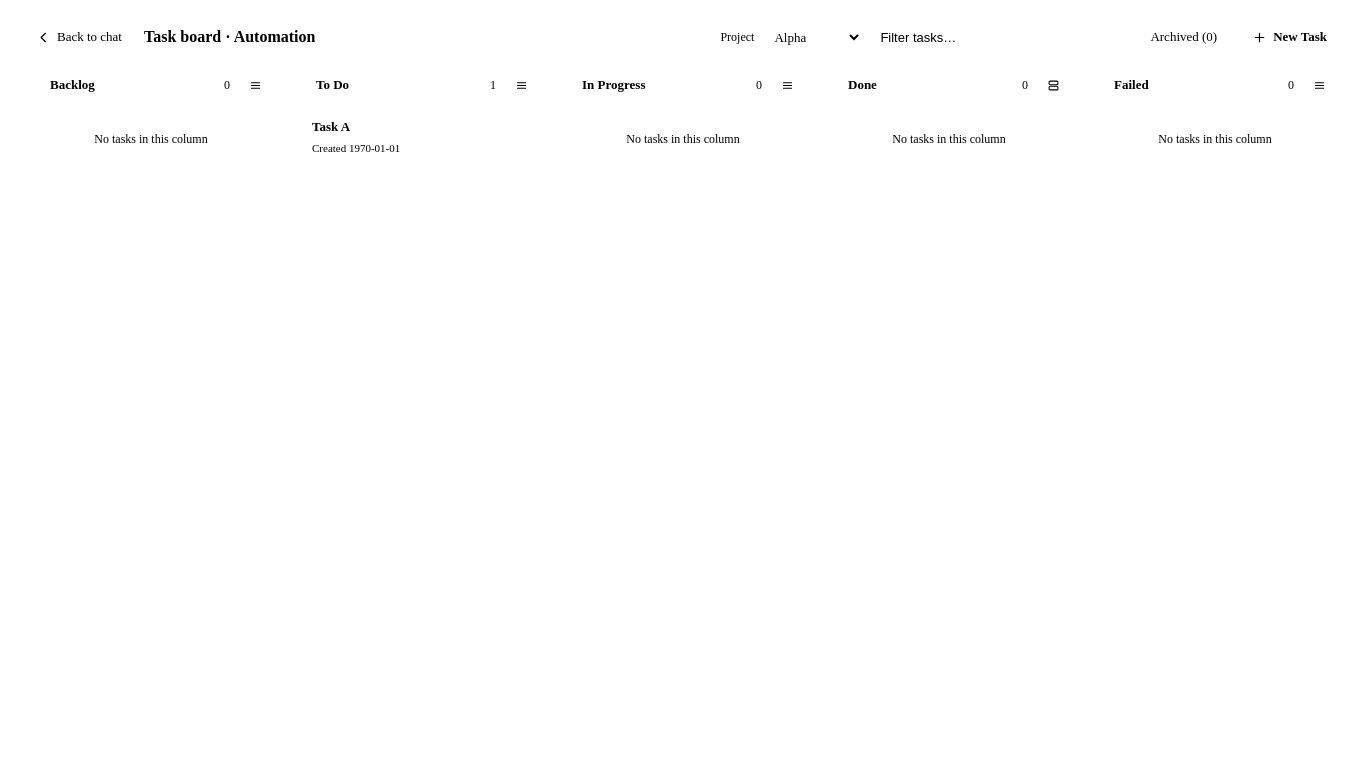
Scenario: TaskBoard project partition (#1536) › seeds the new-task form with the open project
Select "Alpha" in the dropdown labelled "Project" at [811, 37], box [760,22,862,52]
Click the button "New Task" at [1290, 37], box [1237,22,1342,52]
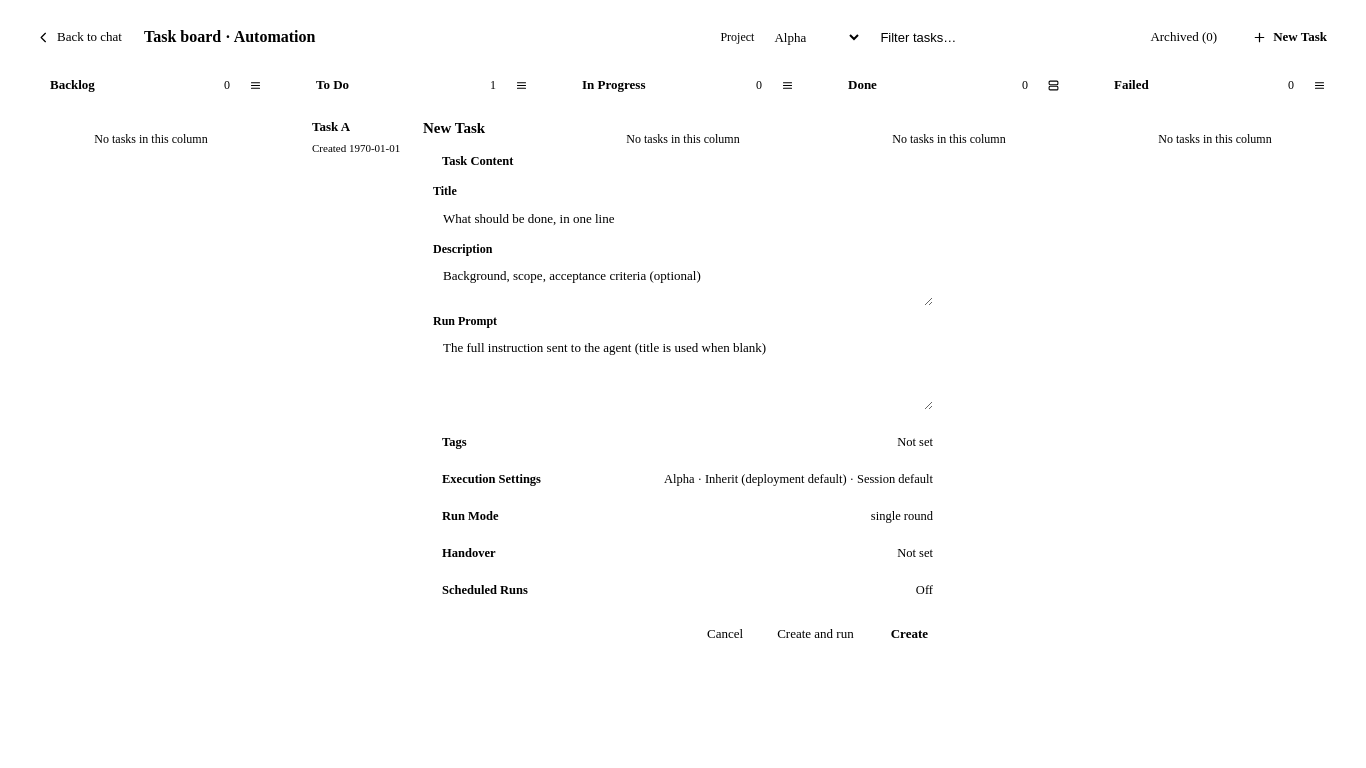
Click the button that starts with "Execution Settings" at [683, 479], box [423,464,943,494]
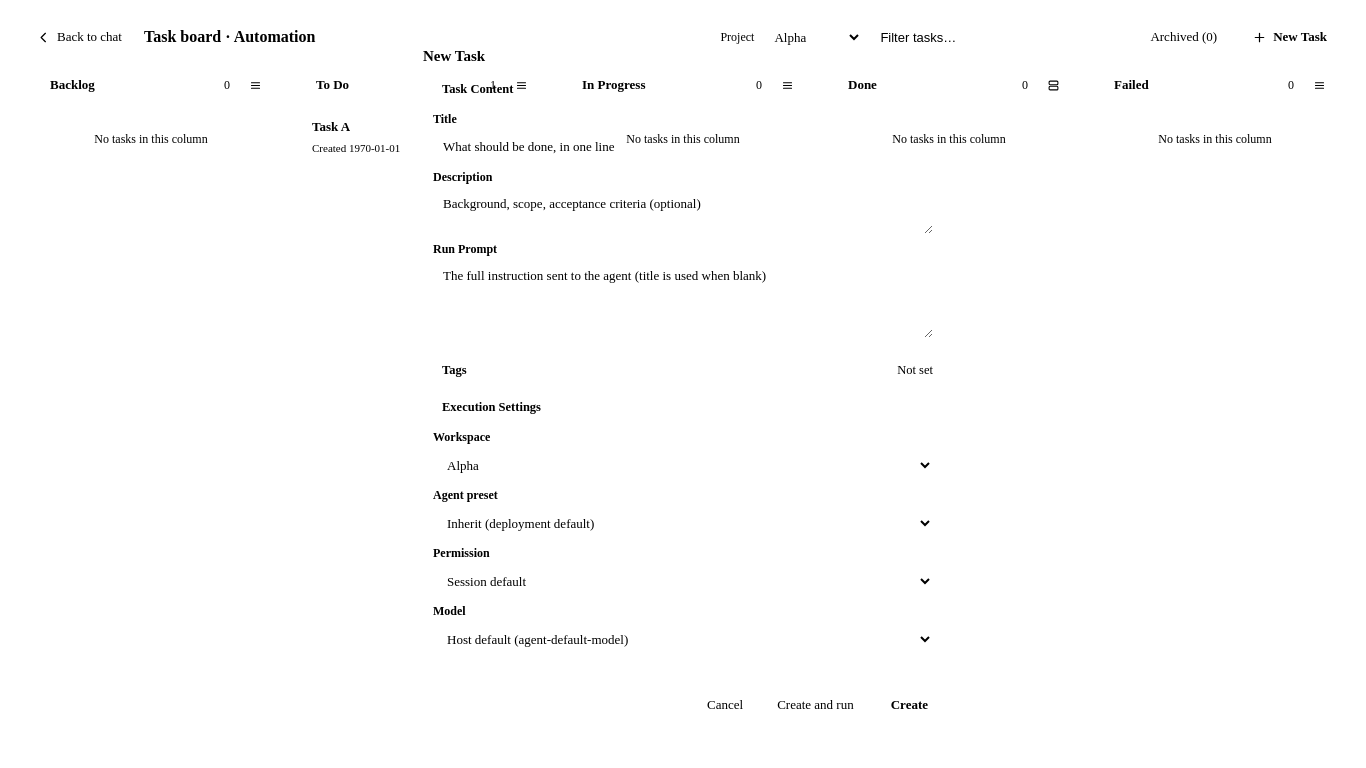
Now the dropdown labelled "Workspace" shows "Alpha", box [433,450,933,480]
